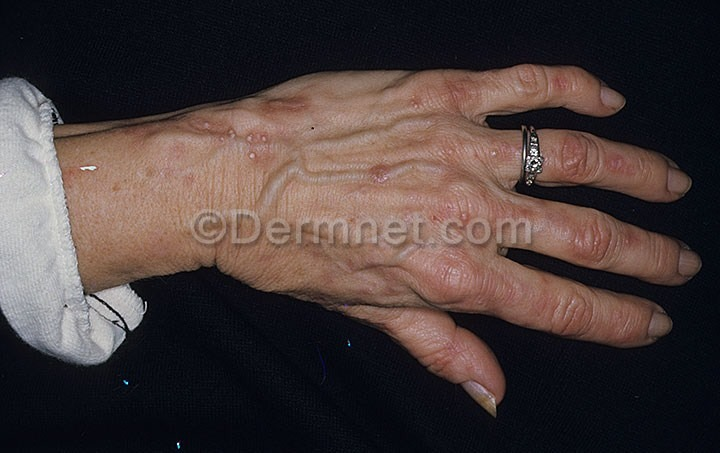Melasma: (244, 96, 309, 176), (167, 109, 242, 156), (397, 85, 440, 138), (66, 161, 127, 192), (362, 152, 397, 197)
